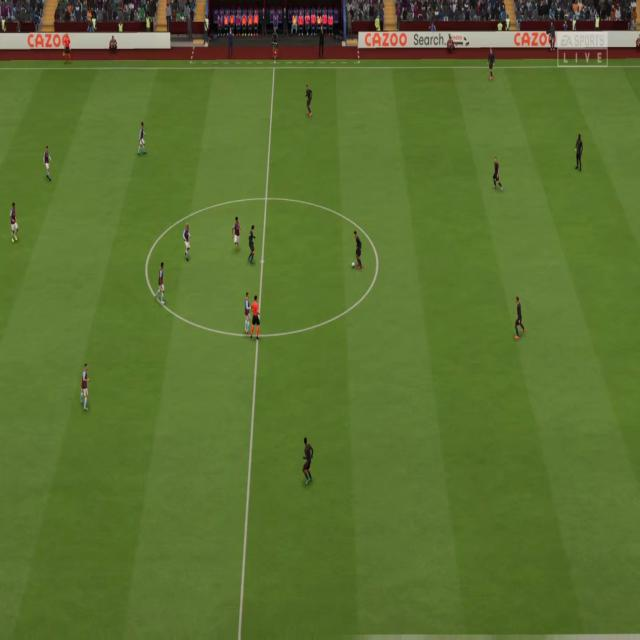Ball: (351, 262, 355, 268)
Referee: (250, 295, 260, 340)
Team-A: (302, 437, 315, 486), (514, 297, 526, 340), (353, 230, 363, 270), (492, 156, 503, 192), (247, 225, 256, 265), (574, 134, 583, 172), (304, 85, 314, 117), (487, 48, 495, 80)
Team-H: (154, 262, 167, 304), (80, 363, 90, 412), (9, 202, 19, 244), (42, 145, 53, 182), (182, 222, 192, 262), (231, 217, 243, 250), (244, 292, 253, 335), (137, 122, 147, 156)
